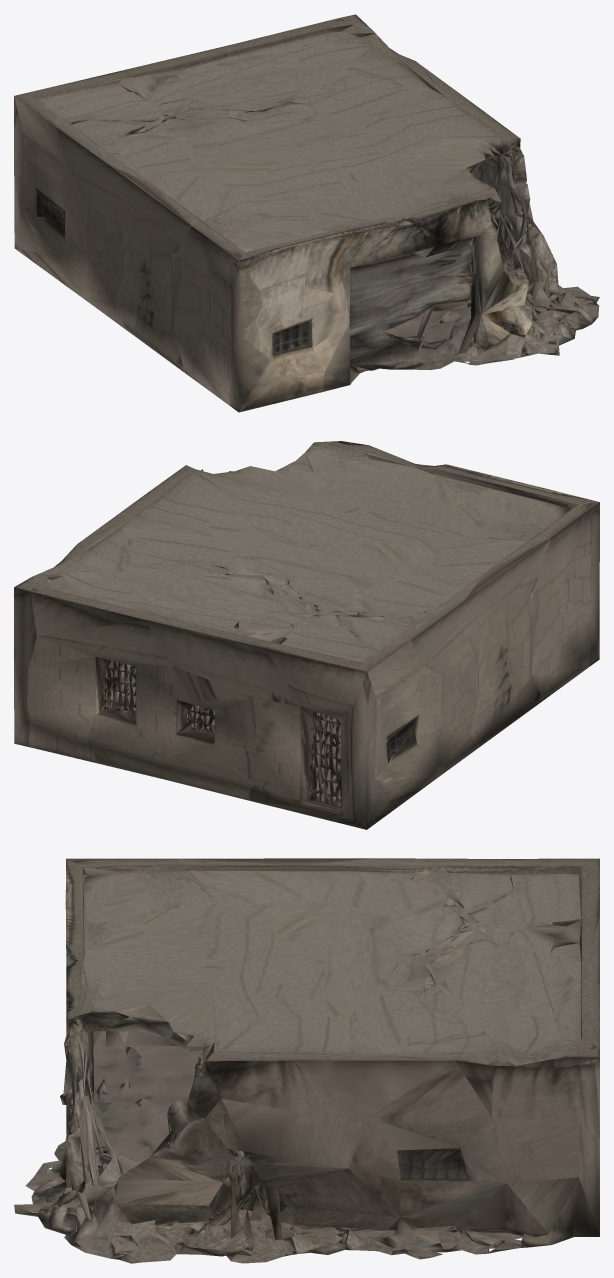
The model's file is warehouse_wreck.glb.
3 views of the same model, one above another, from view 1: azimuth 30°, elevation 25°; view 2: azimuth 150°, elevation 25°; view 3: azimuth 270°, elevation 25° (orthographic). The views are drawn at different scales.
Visible parts, largest first — view 1: wall, metal; view 2: wall, metal; view 3: metal, wall.
Boxes of the visible parts, box(x1,y1,x2,y2) form: wall: box(14, 25, 599, 412); metal: box(14, 14, 599, 384); wall: box(14, 452, 599, 829); metal: box(14, 441, 599, 814); metal: box(15, 858, 599, 1263); wall: box(14, 865, 599, 1263).
Size of the model in its own units: 10.91 by 4.12 by 11.99.
Materials: 1 (1 with a texture image).
